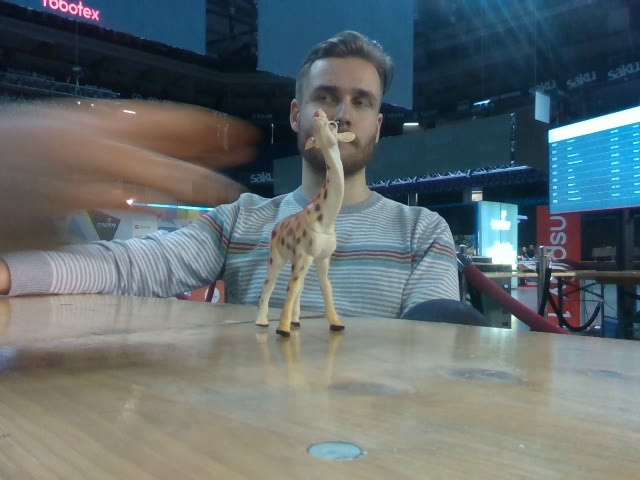toy: (255, 108, 358, 339)
